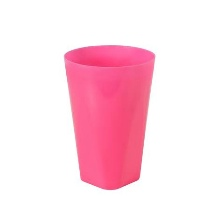glass: (55, 37, 161, 192)
